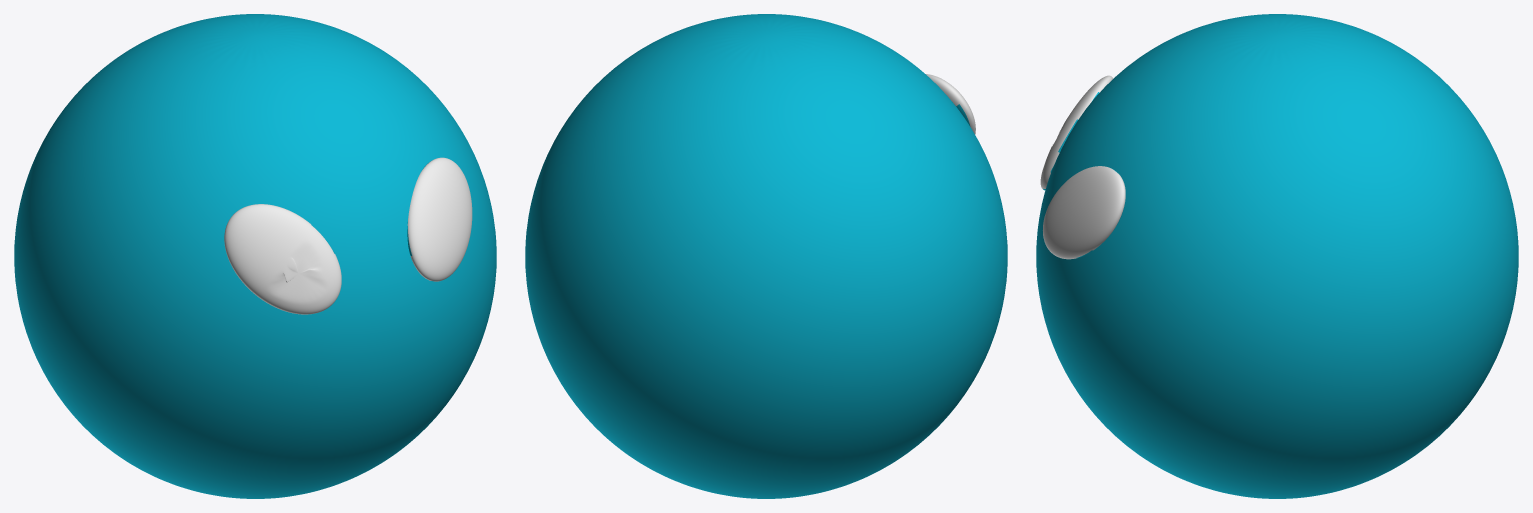
The picture shows the model from 3 angles, left to right: view 1: azimuth 30°, elevation 25°; view 2: azimuth 150°, elevation 25°; view 3: azimuth 270°, elevation 25°; orthographic projection.
Parts seen in each view (by area): view 1: Sphere.002; view 2: Sphere.002; view 3: Sphere.002.
Boxes of the visible parts, x1,y1,x2,y2 form: Sphere.002: (14, 14, 496, 498); Sphere.002: (525, 14, 1007, 498); Sphere.002: (1036, 14, 1518, 498).
Bounding box in the file's own units: 198 × 200 × 198.
